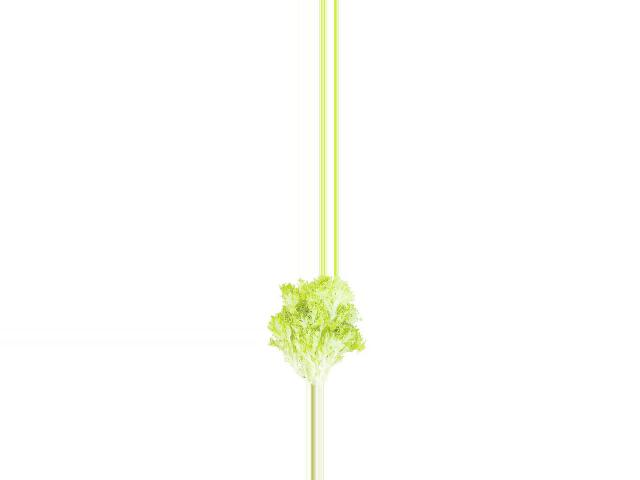lettuce: (262, 276, 366, 387)
